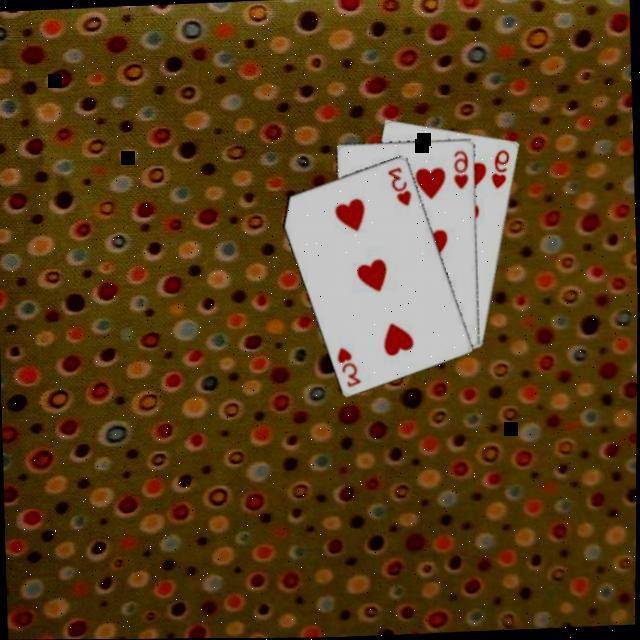3H: (334, 345, 366, 392), (385, 164, 416, 212)
6H: (451, 149, 473, 194)
9H: (488, 148, 514, 193)
